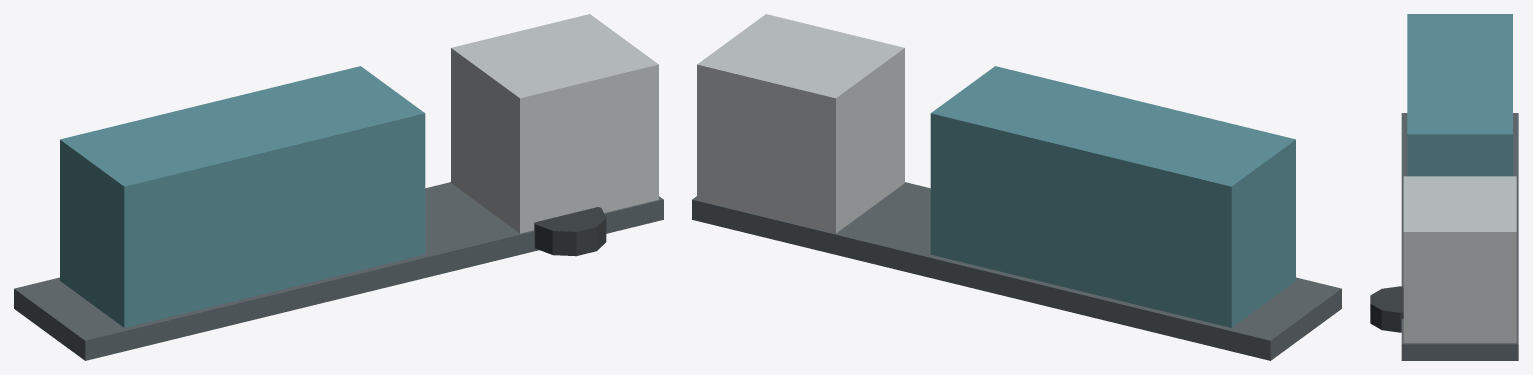
Rendered from truck-lod2.glb.
3 views of the same model, side by side, from view 1: azimuth 30°, elevation 25°; view 2: azimuth 150°, elevation 25°; view 3: azimuth 270°, elevation 25° (orthographic). The views are drawn at different scales.
Parts seen in each view (by area): view 1: load, cab, chassis, wheel; view 2: load, cab, chassis; view 3: cab, load, chassis, wheel.
Boxes of the visible parts, <box> form: load: <box>60,66,425,327</box>; cab: <box>451,14,658,233</box>; chassis: <box>14,182,663,360</box>; wheel: <box>534,207,606,256</box>; load: <box>930,66,1295,327</box>; cab: <box>697,14,904,233</box>; chassis: <box>692,182,1341,360</box>; cab: <box>1403,176,1516,342</box>; load: <box>1407,14,1512,176</box>; chassis: <box>1401,113,1518,360</box>; wheel: <box>1370,286,1403,332</box>.
Size of the model in its own units: 7.5 by 2 by 2.03.
